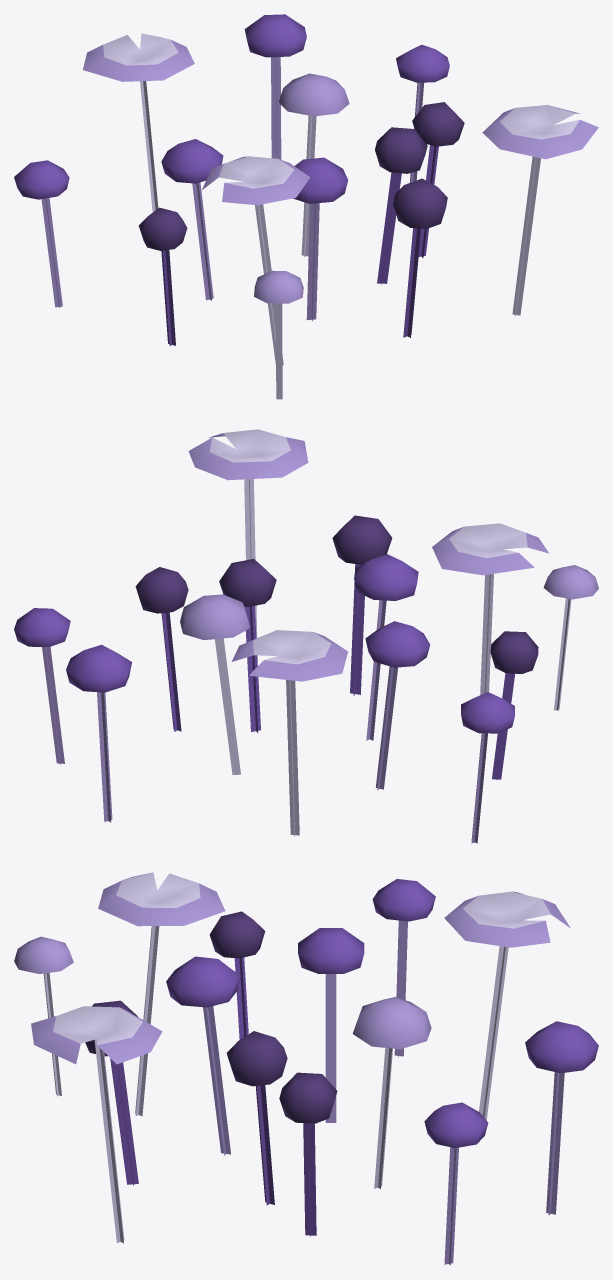
File: Purple_Mushrooms_Cluster_2.fbx
The picture shows the model from 3 angles, top to bottom: view 1: azimuth 30°, elevation 25°; view 2: azimuth 150°, elevation 25°; view 3: azimuth 270°, elevation 25°; orthographic projection. The views are drawn at different scales.
Visible parts, largest first — view 1: Purple_Mushrooms_Cluster_2; view 2: Purple_Mushrooms_Cluster_2; view 3: Purple_Mushrooms_Cluster_2.
Part boxes in pixels (x1=…): Purple_Mushrooms_Cluster_2: x1=14, y1=14, x2=598, y2=399; Purple_Mushrooms_Cluster_2: x1=14, y1=429, x2=598, y2=843; Purple_Mushrooms_Cluster_2: x1=14, y1=872, x2=598, y2=1265.
Bounding box in the file's own units: 46.78 × 19.54 × 46.07.
Materials: 1 (1 with a texture image).
